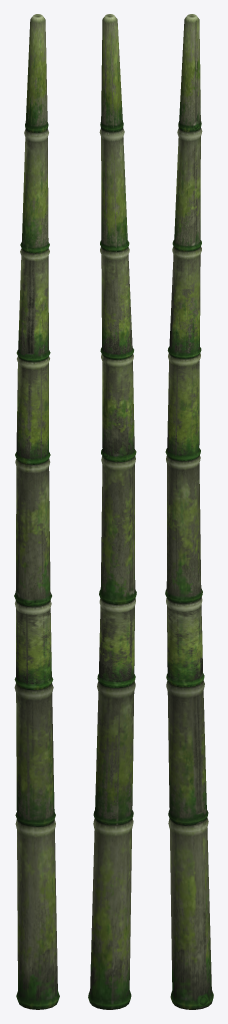
Rendered from BambooSet_part_29.fbx.
3 views of the same model, side by side, from view 1: azimuth 30°, elevation 25°; view 2: azimuth 150°, elevation 25°; view 3: azimuth 330°, elevation 25° (orthographic).
Parts seen in each view (by area): view 1: Object_52.001; view 2: Object_52.001; view 3: Object_52.001.
Boxes of the visible parts, bbox=[...] form: Object_52.001: bbox=[14, 14, 59, 1009]; Object_52.001: bbox=[88, 14, 136, 1009]; Object_52.001: bbox=[165, 14, 213, 1009].
Size of the model in its own units: 133 by 3009 by 121.
